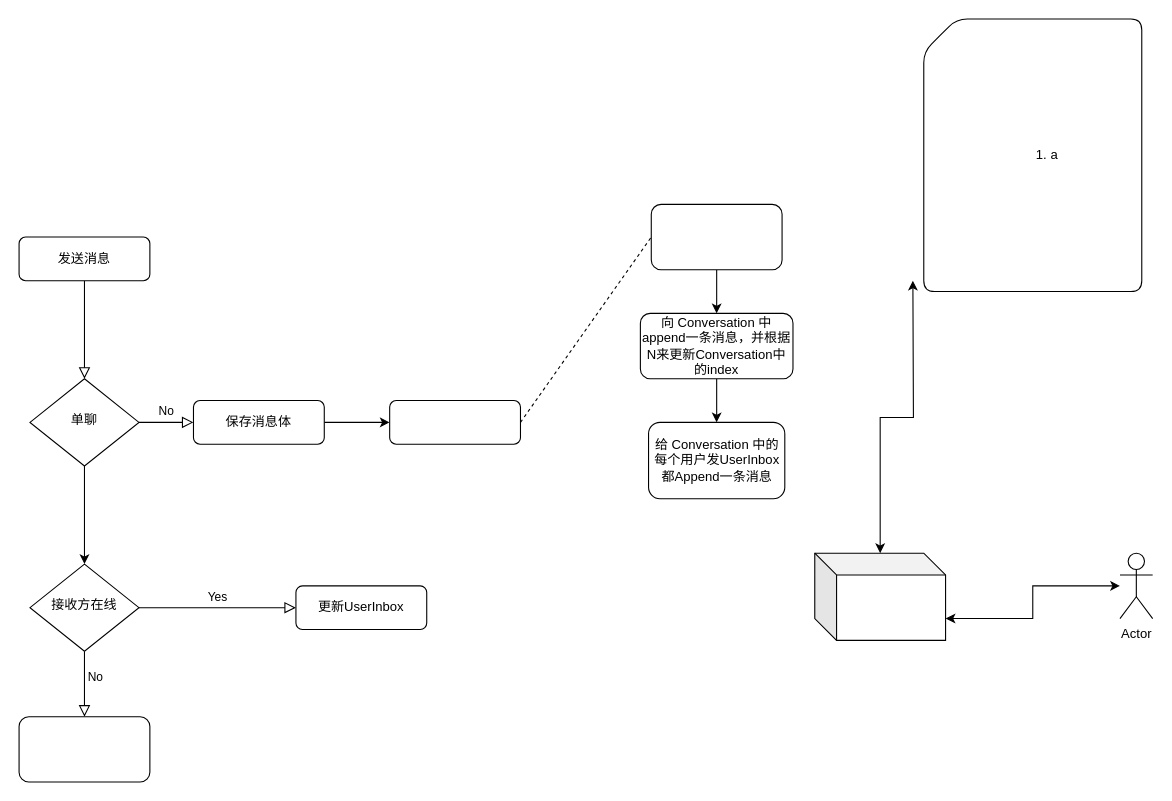
Some shapes in this 1172 by 801 pixel diagram are drawn without their labels. Here are the shapes that lost their labels. From the top down, the box of each, then its label:
(650, 203, 782, 270): 在时间窗口内累积N条消息后合并为一次通知消息
(389, 399, 520, 444): 推送到消息队列
(814, 552, 946, 640): UserInbox
(18, 716, 150, 782): Push服务推送通知
